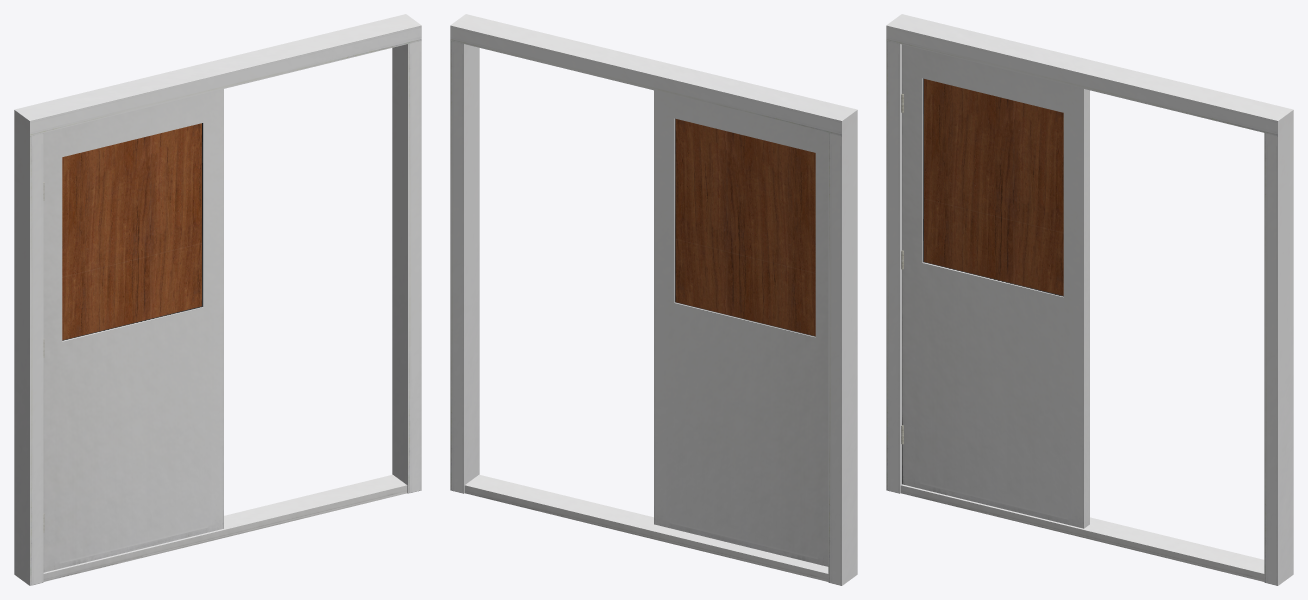
Rendered from Door02_Opened.FBX.
3 views of the same model, side by side, from view 1: azimuth 30°, elevation 25°; view 2: azimuth 150°, elevation 25°; view 3: azimuth 330°, elevation 25° (orthographic).
Parts seen in each view (by area): view 1: door02_frame, door02_glass; view 2: door02_frame, door02_glass; view 3: door02_frame, door02_glass.
Boxes of the visible parts, bbox=[...] form: door02_frame: bbox=[14, 14, 421, 585]; door02_glass: bbox=[62, 123, 201, 340]; door02_frame: bbox=[450, 14, 857, 585]; door02_glass: bbox=[675, 119, 815, 336]; door02_frame: bbox=[886, 14, 1293, 585]; door02_glass: bbox=[924, 79, 1063, 295].
Size of the model in its own units: 1805 by 2045 by 125.
